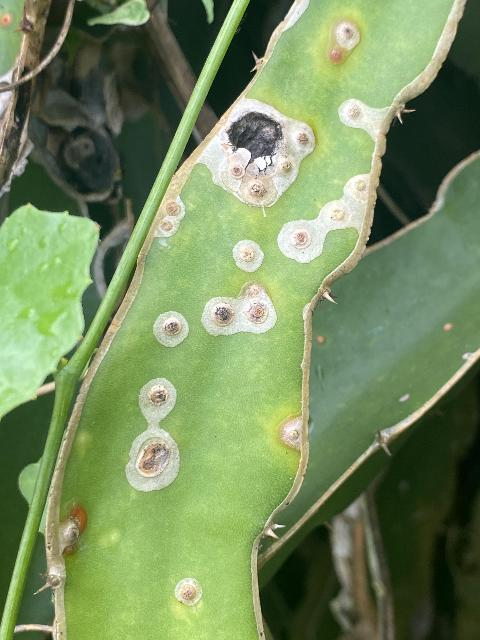stemcanker: (206, 98, 317, 208), (199, 280, 278, 339), (117, 426, 180, 495), (277, 212, 333, 265), (140, 193, 188, 242), (335, 95, 391, 135), (323, 15, 364, 69), (140, 375, 175, 431), (51, 505, 88, 557), (148, 310, 192, 350), (230, 235, 266, 275), (315, 196, 352, 231), (171, 575, 208, 610), (276, 411, 305, 450), (346, 169, 372, 201)
